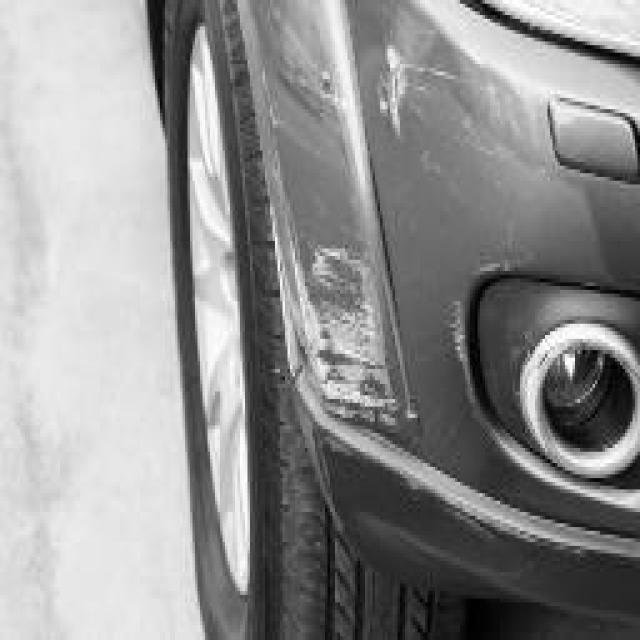Bumper: (240, 0, 562, 489)
